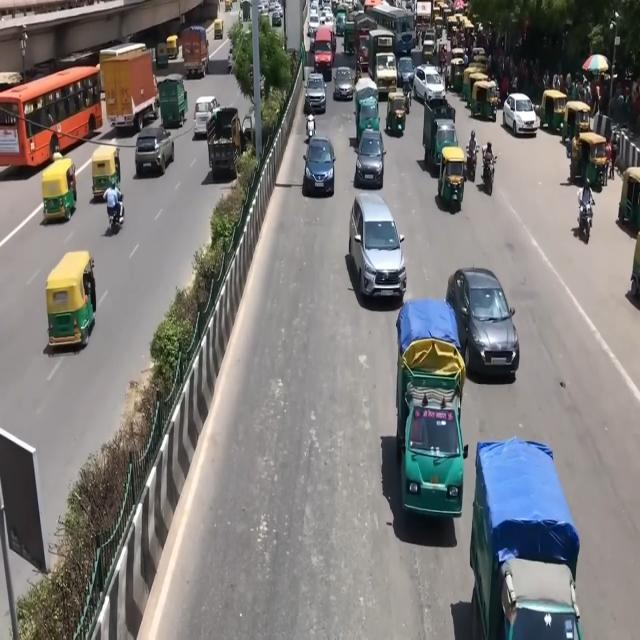auto: (46, 250, 96, 348), (422, 97, 456, 177), (42, 154, 76, 222), (571, 130, 608, 191), (437, 146, 466, 212), (91, 144, 121, 201), (353, 79, 379, 141), (618, 163, 640, 230), (562, 100, 592, 148), (470, 79, 500, 124), (540, 88, 568, 133), (385, 88, 407, 137), (448, 55, 466, 93), (343, 16, 356, 54), (422, 29, 436, 62), (166, 34, 179, 60), (214, 18, 224, 39)
bike-auto: (578, 180, 595, 233), (104, 181, 123, 226), (482, 140, 496, 179), (466, 131, 478, 170), (305, 114, 316, 143), (403, 86, 413, 115)
